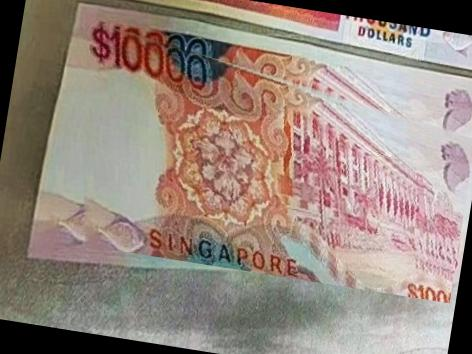10000SingaporeDollar: (42, 17, 472, 304)
